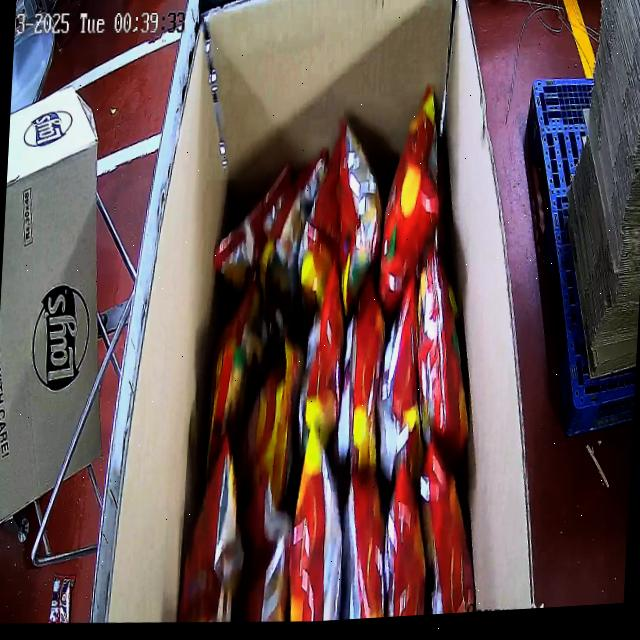MASALA: (177, 71, 504, 630)
